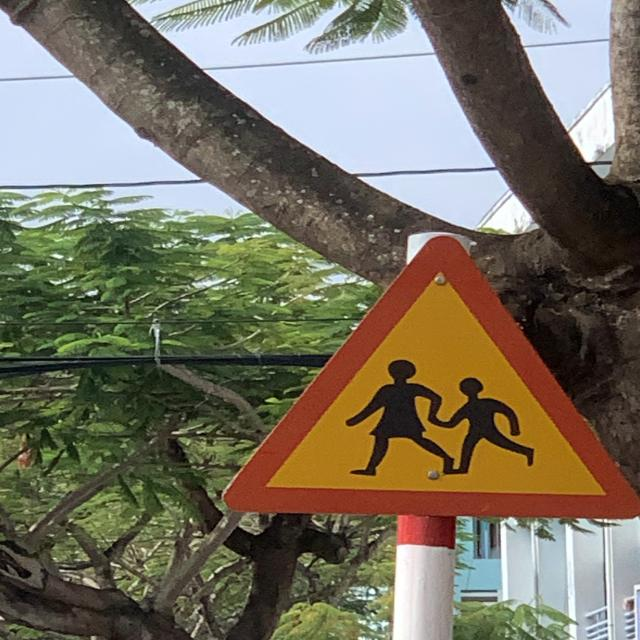Vong_Xuyen: (220, 236, 640, 520)
